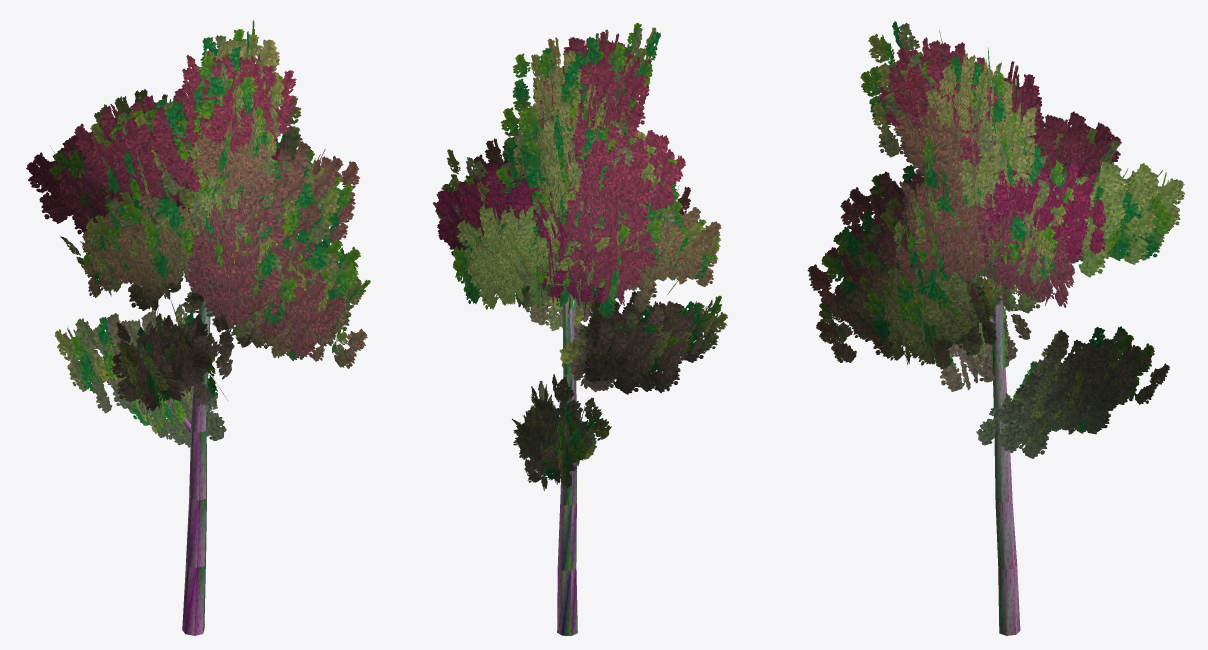
File: nat_birch_a_LOD0.glb
3 renders of one model, left to right at view 1: azimuth 30°, elevation 25°; view 2: azimuth 150°, elevation 25°; view 3: azimuth 270°, elevation 25°, orthographic. The views are drawn at different scales.
Parts seen in each view (by area): view 1: nat_birch_a_LOD0; view 2: nat_birch_a_LOD0; view 3: nat_birch_a_LOD0.
Boxes of the visible parts, box(x1,y1,x2,y2) form: nat_birch_a_LOD0: box(26, 20, 370, 635); nat_birch_a_LOD0: box(433, 23, 727, 635); nat_birch_a_LOD0: box(807, 21, 1185, 635).
Bounding box in the file's own units: 4.38 × 8.63 × 5.15.
2 materials, 2 textured.
